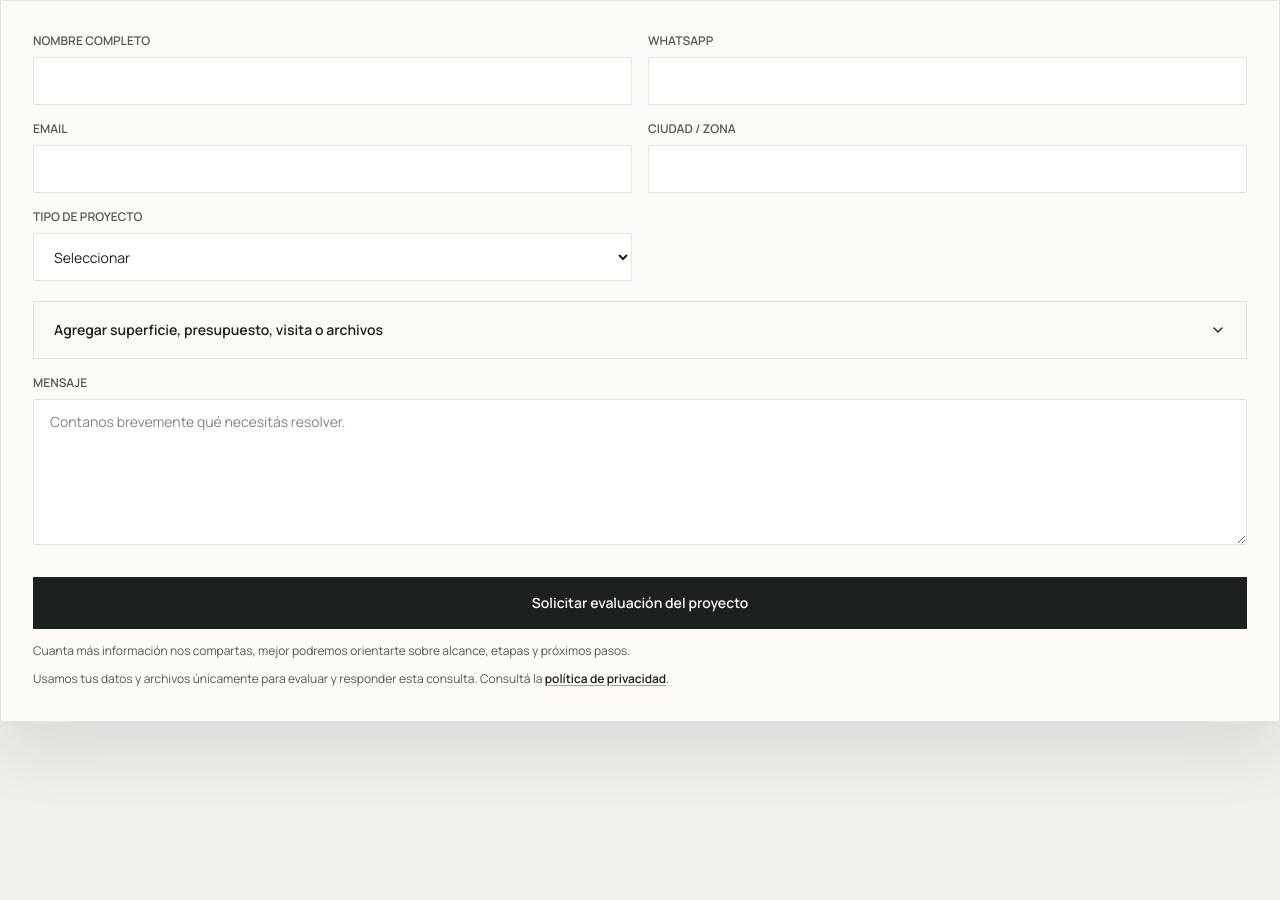
Test case: QuoteForm › links validation errors to the corresponding controls
Step 1. Click the button "Solicitar evaluación del proyecto" → click(640, 603), box left=33, top=577, right=1247, bottom=629
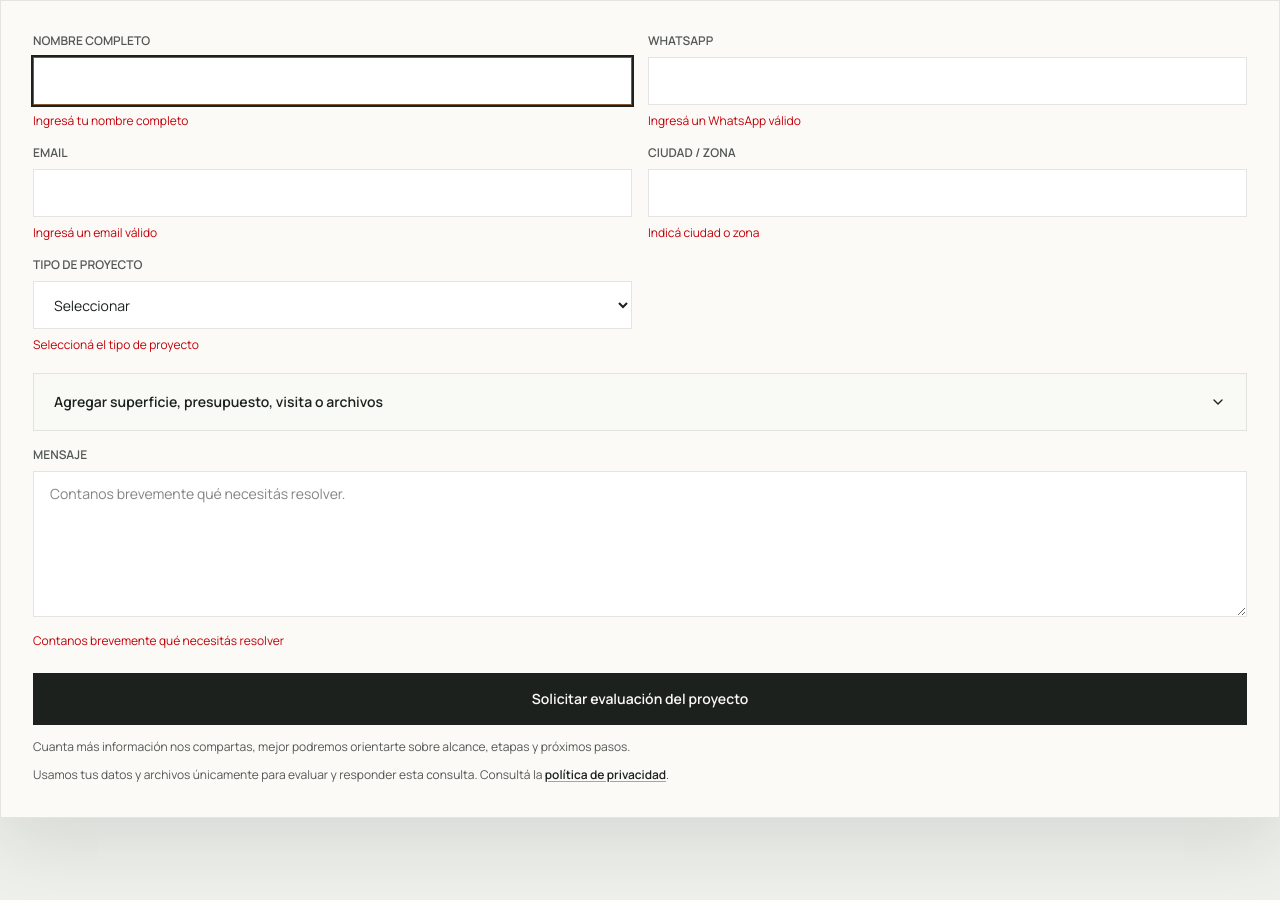
Expected: the text "Ingresá tu nombre completo" is shown, left=33, top=112, right=188, bottom=129
